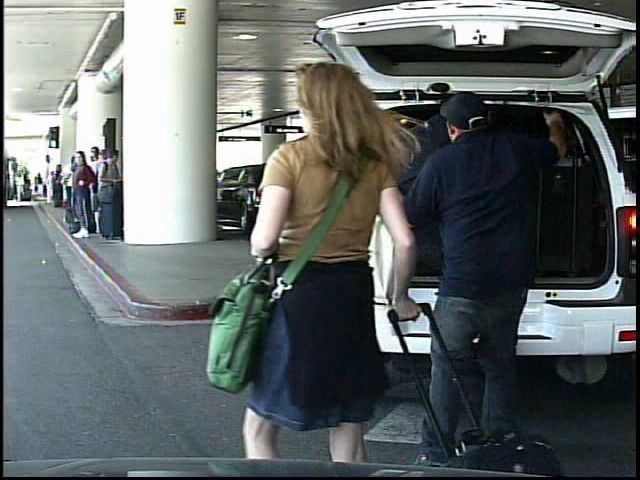person: (241, 55, 427, 469), (410, 86, 558, 433), (15, 174, 26, 205), (35, 172, 46, 199)
